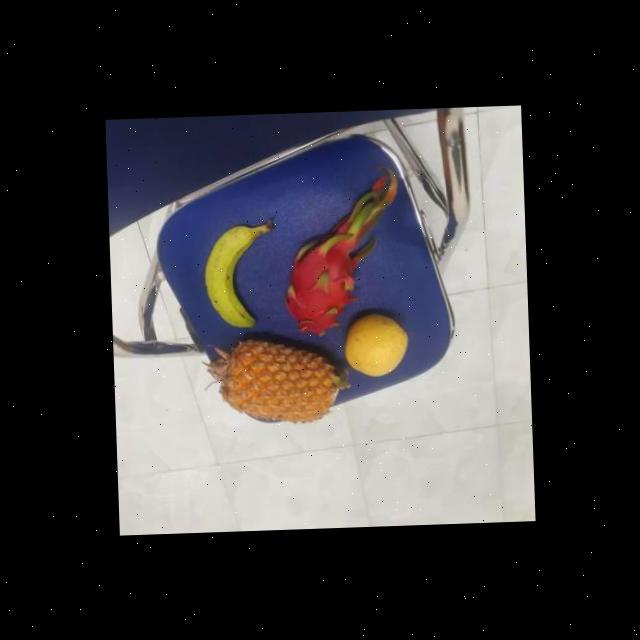banana: (202, 224, 274, 327)
pear: (341, 311, 412, 378)
pineapple: (210, 332, 346, 428)
pitaya: (283, 242, 364, 334)
